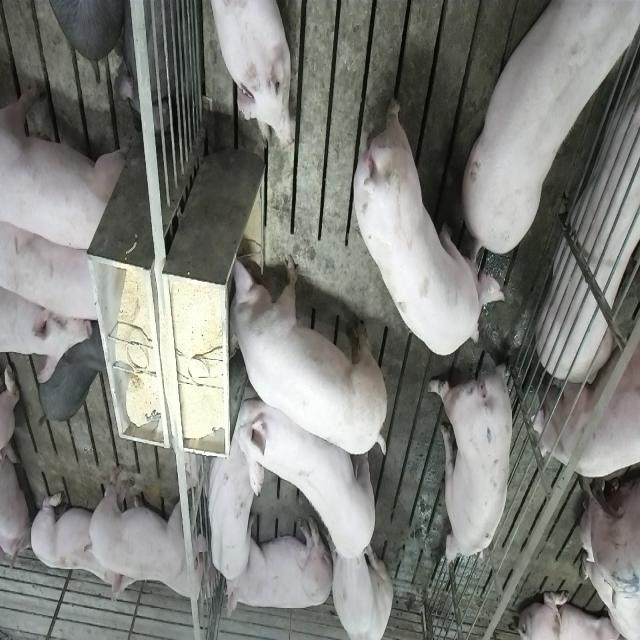Feeding: (220, 241, 385, 463)
Lateral_lying: (538, 50, 640, 416), (224, 512, 334, 618)
Sitting: (329, 526, 393, 639)
Standing: (465, 0, 640, 258), (354, 94, 508, 356), (242, 382, 381, 562), (2, 76, 130, 256), (430, 348, 514, 568), (534, 327, 640, 477), (86, 458, 212, 584), (2, 214, 103, 322)
Sternal_lying: (31, 487, 138, 612), (205, 0, 291, 152)
